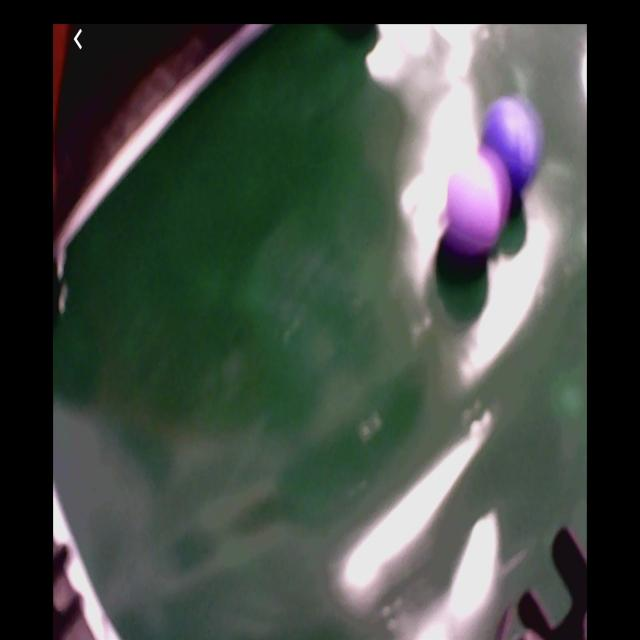ball: (446, 155, 508, 254), (484, 98, 540, 196)
